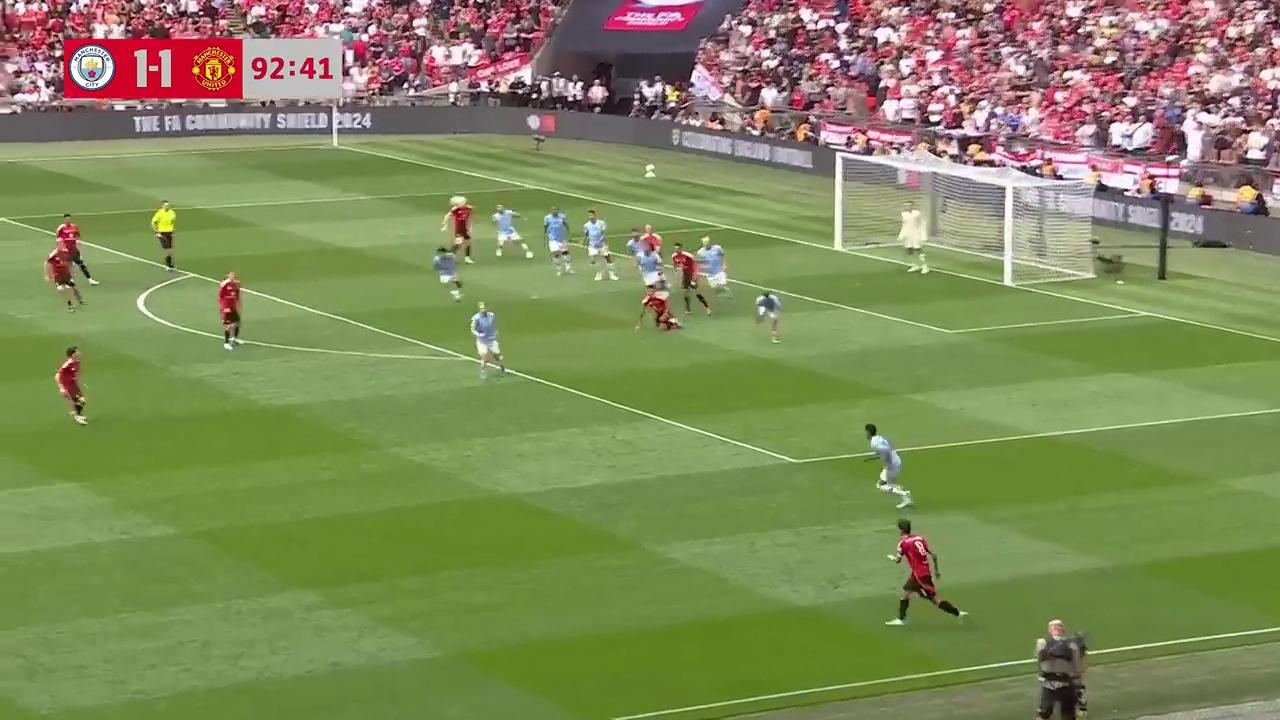player: (887, 519, 965, 626), (863, 425, 913, 504), (668, 243, 712, 316), (470, 301, 507, 380), (58, 215, 98, 288), (45, 243, 85, 311), (635, 279, 684, 334), (55, 345, 88, 425), (579, 210, 617, 278), (491, 203, 533, 260), (897, 203, 929, 275), (442, 194, 474, 263), (624, 224, 661, 279), (217, 270, 242, 350), (545, 208, 574, 276), (633, 221, 671, 272), (698, 237, 729, 298), (432, 245, 463, 303), (436, 234, 469, 287), (753, 290, 781, 342)
referee: (150, 200, 176, 272)
